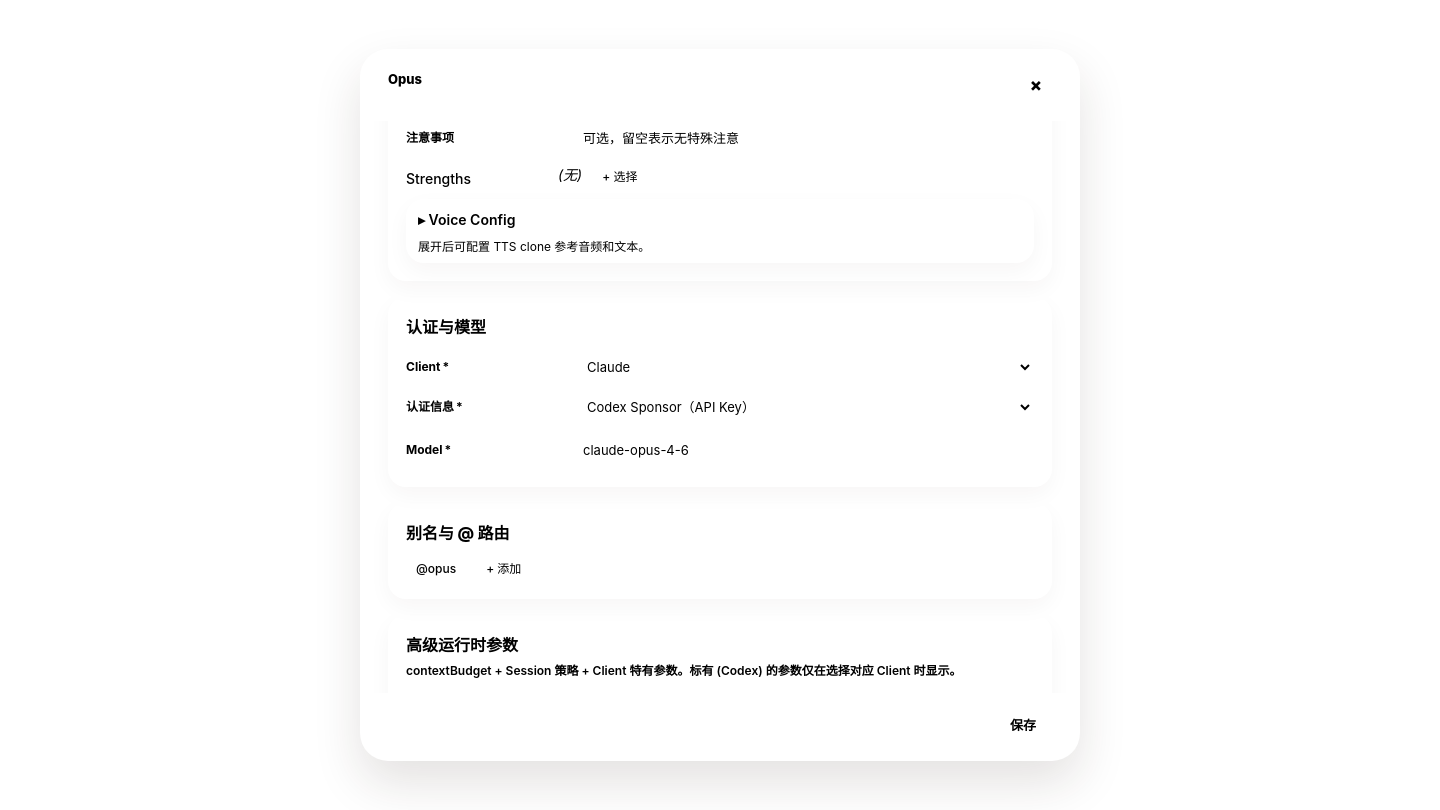
Test: HubCatEditor › resets defaultModel when switching Provider to prevent stale model carry-over
(page scrolled)
Expected: the field named "Model" holds "claude-opus-4-6", [568, 431, 1034, 469]
Step 1. Select "Codex Sponsor（API Key）" in the dropdown named "认证信息" → point(802, 407), box [570, 391, 1034, 423]
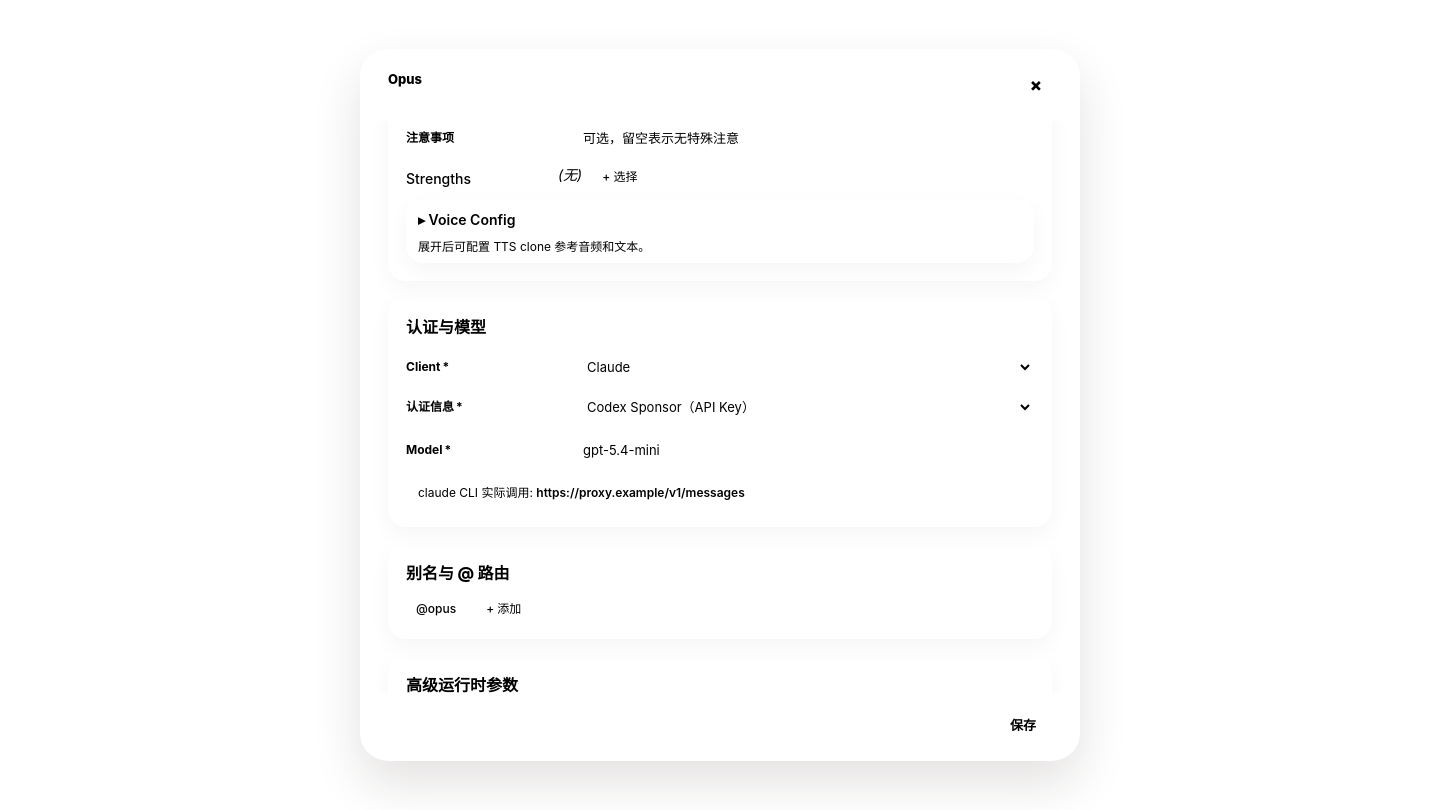
Now the field named "Model" does not hold "claude-opus-4-6", box [568, 431, 1034, 469]
